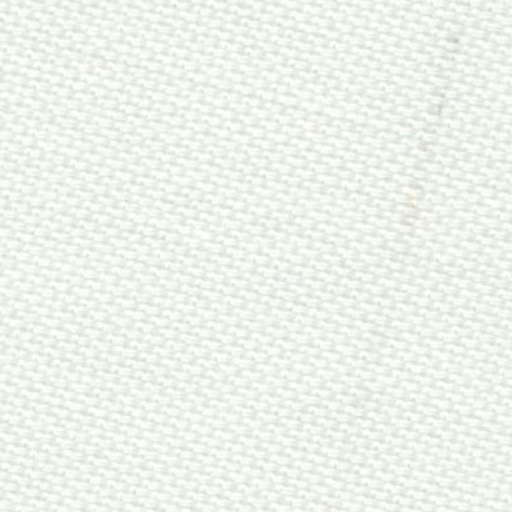WuZi: (388, 8, 474, 262)
